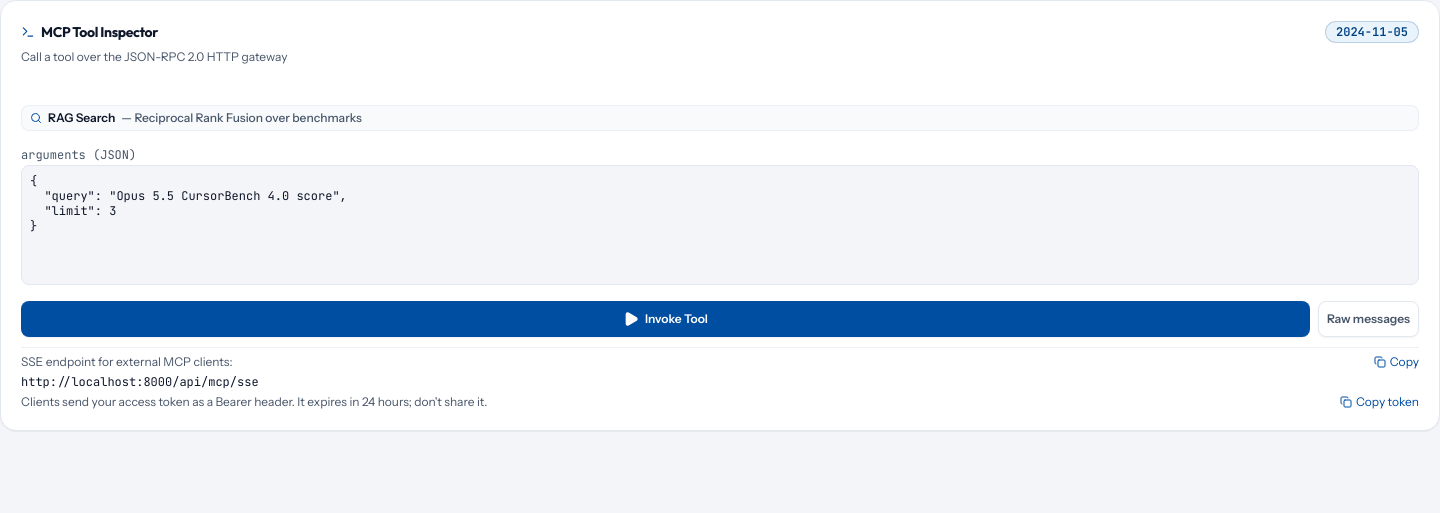
McpInspector Component › surfaces JSON-RPC errors
The image size is (1440, 513).
Click the button "Invoke Tool" at (665, 319), box [21, 301, 1310, 337]
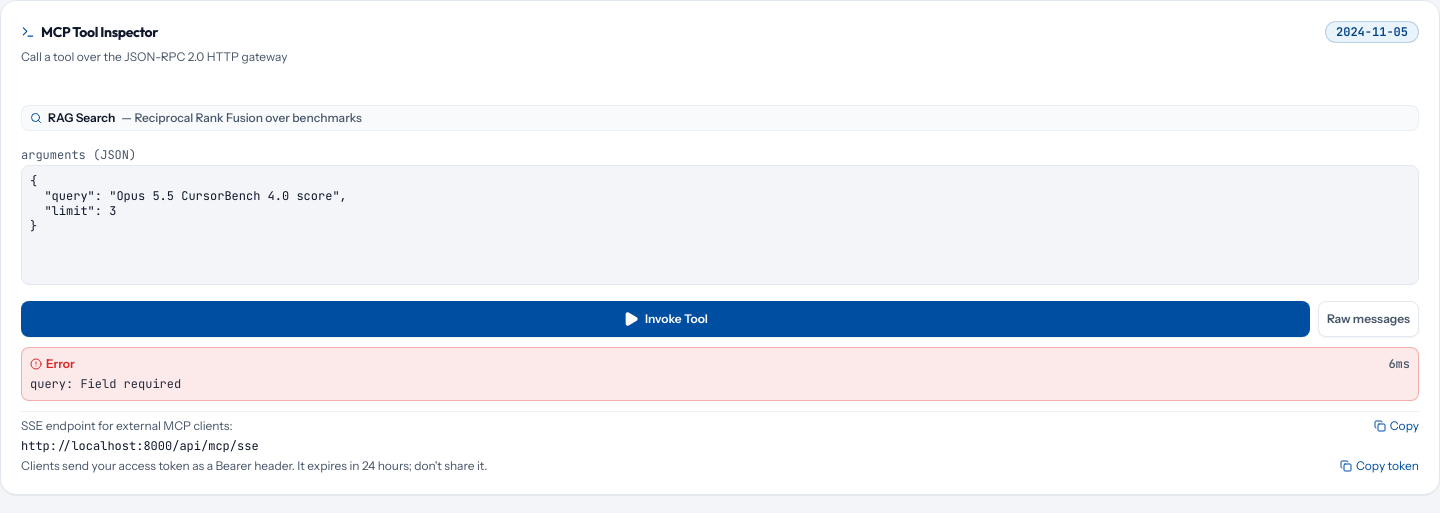
expect the text "query: Field required" is shown: met, box [30, 376, 181, 392]
